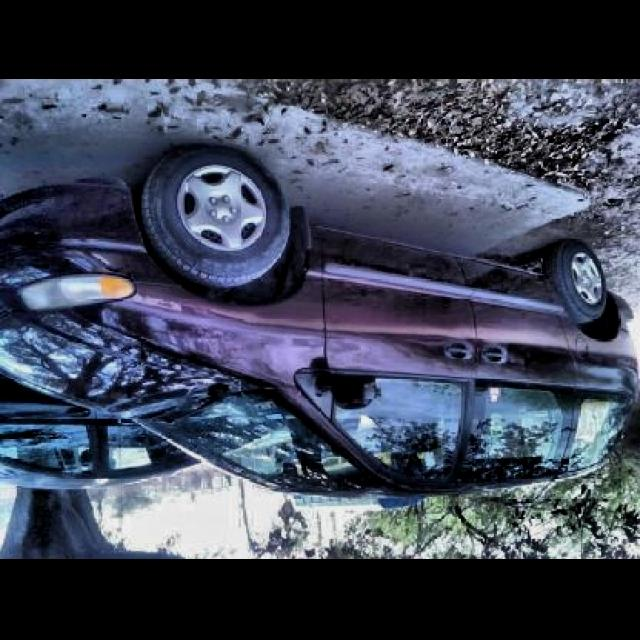maroon: (5, 238, 626, 522)
